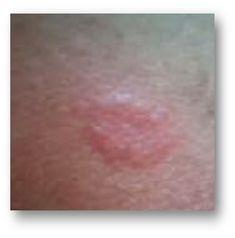Gnat-bites: (74, 97, 180, 181)
